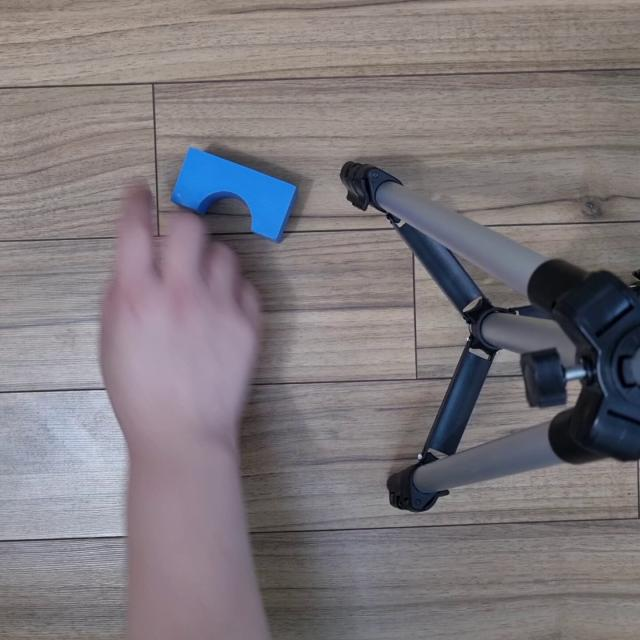block: (170, 145, 303, 248)
hand: (71, 210, 265, 430)
